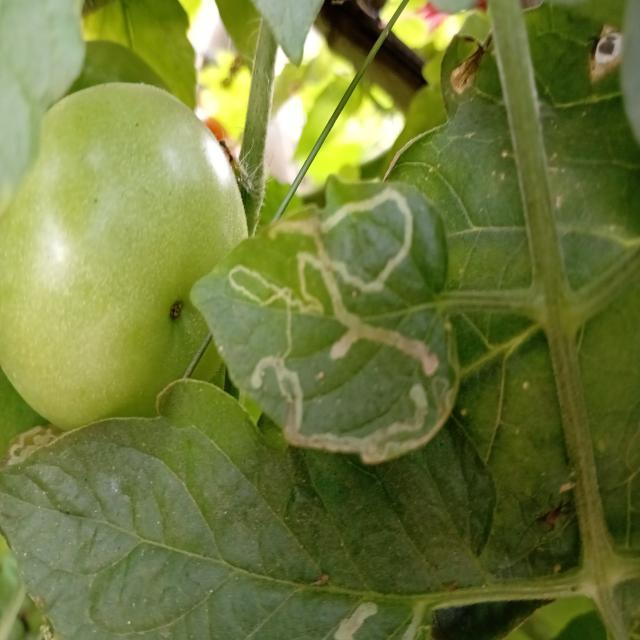Tuta absoluta: (268, 244, 445, 416), (238, 346, 451, 478), (267, 145, 434, 302), (223, 225, 354, 362)
